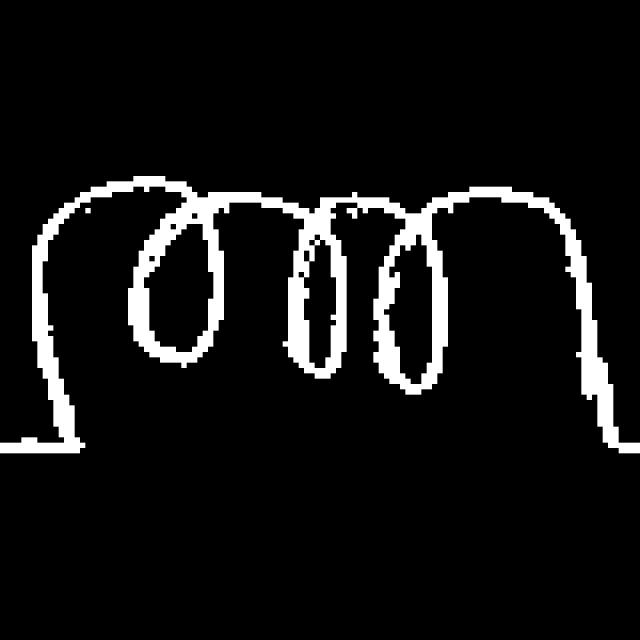inductor: (13, 146, 610, 463)
